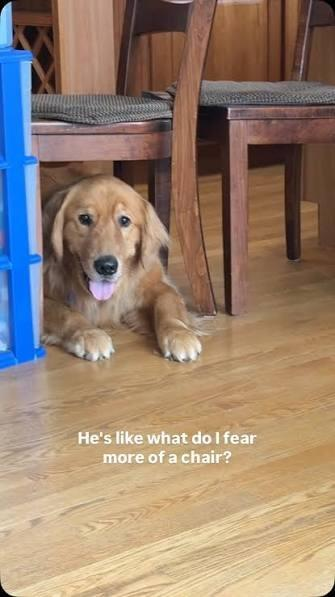adult_dog: (31, 158, 206, 364)
